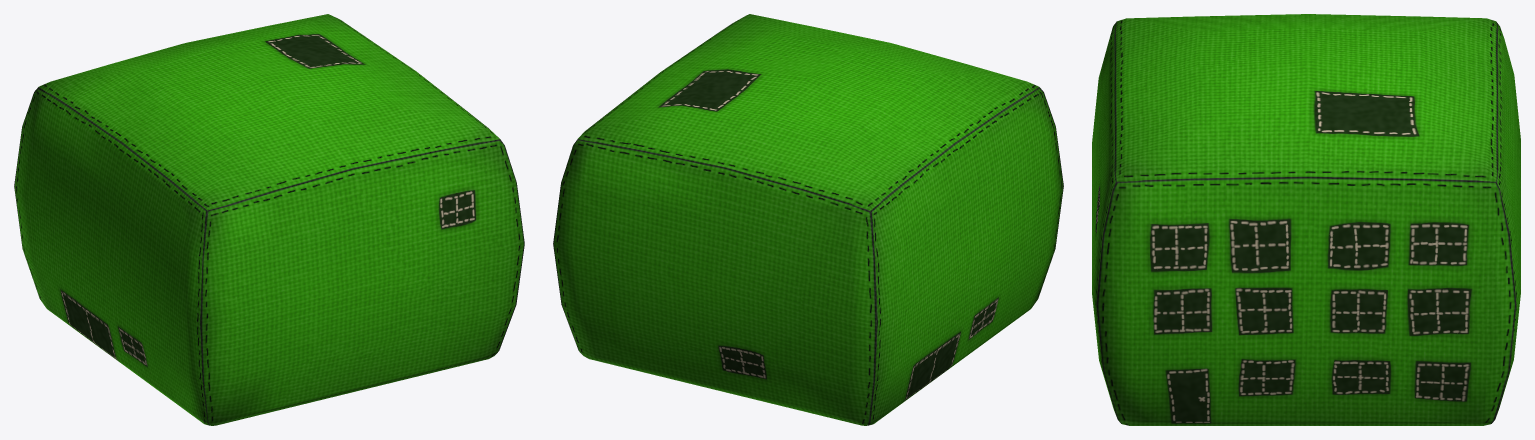
The model's file is building.fbx.
3 views of the same model, side by side, from view 1: azimuth 30°, elevation 25°; view 2: azimuth 150°, elevation 25°; view 3: azimuth 270°, elevation 25° (orthographic). The views are drawn at different scales.
Visible parts, largest first — view 1: pCube2; view 2: pCube2; view 3: pCube2.
Part boxes in pixels (x1=…): pCube2: x1=14, y1=14, x2=524, y2=425; pCube2: x1=553, y1=14, x2=1063, y2=425; pCube2: x1=1092, y1=14, x2=1520, y2=425.
Bounding box in the file's own units: 13.42 × 10.04 × 13.42.
